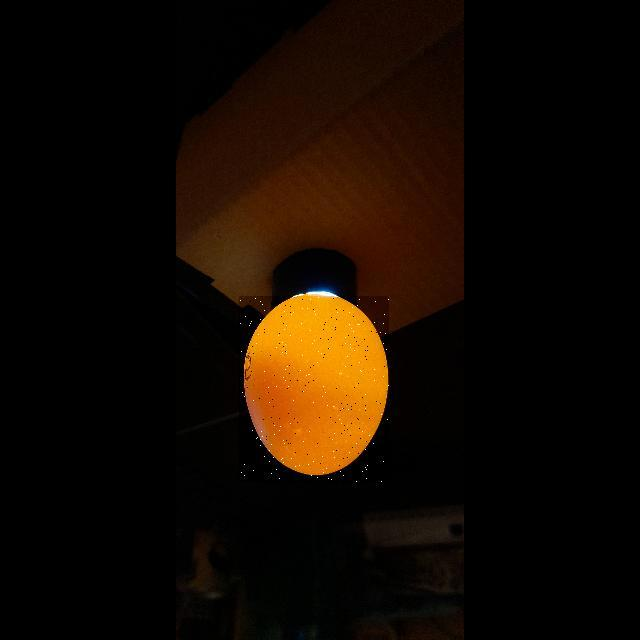A - Good: (239, 296, 389, 482)
